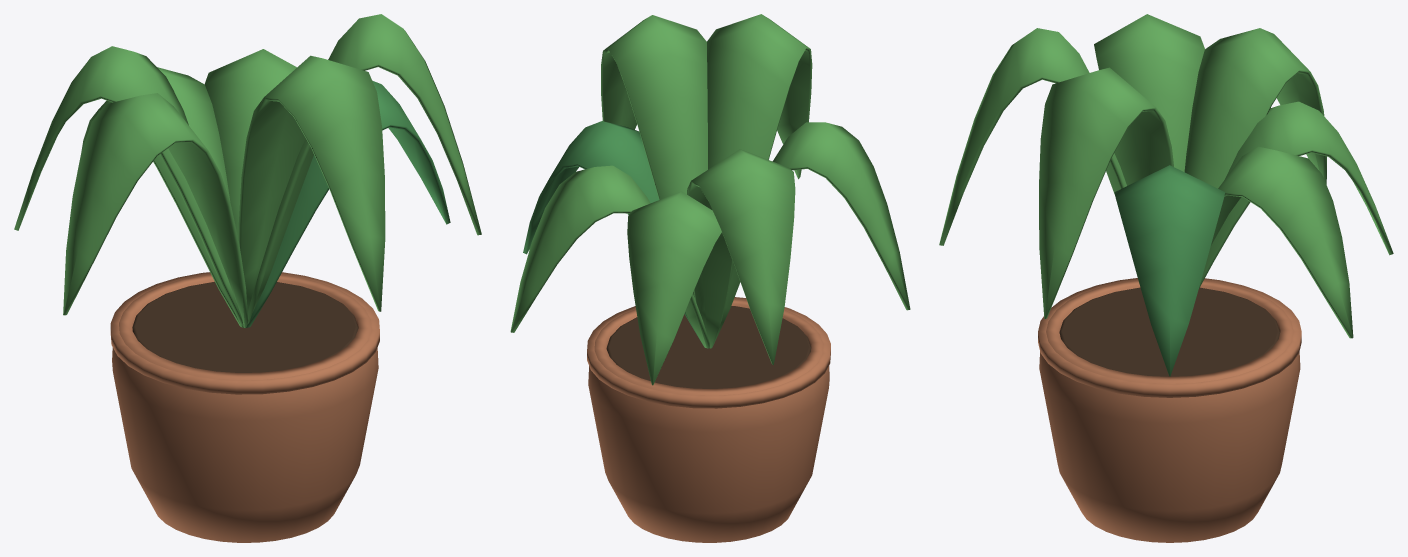
Rendered from HotelTogether-TablePlant.glb.
3 renders of one model, left to right at view 1: azimuth 30°, elevation 25°; view 2: azimuth 150°, elevation 25°; view 3: azimuth 270°, elevation 25°, orthographic. The views are drawn at different scales.
Visible parts, largest first — view 1: Pot_ContinuousShell.001, TablePlant_Leaf.002, TablePlant_Leaf.004, Pot_Soil.001, TablePlant_Leaf.005, TablePlant_Leaf.001, TablePlant_Leaf.003, Pot_Rim.001, TablePlant_Leaf, TablePlant_Leaf.006; view 2: Pot_ContinuousShell.001, TablePlant_Leaf.005, TablePlant_Leaf.006, TablePlant_Leaf.002, TablePlant_Leaf.001, Pot_Soil.001, TablePlant_Leaf.003, TablePlant_Leaf.004, TablePlant_Leaf, Pot_Rim.001; view 3: Pot_ContinuousShell.001, TablePlant_Leaf.005, Pot_Soil.001, TablePlant_Leaf, TablePlant_Leaf.001, TablePlant_Leaf.003, TablePlant_Leaf.004, TablePlant_Leaf.002, TablePlant_Leaf.006, Pot_Rim.001.
Boxes of the visible parts, bbox=[...] form: Pot_ContinuousShell.001: bbox=[112, 274, 378, 542]; TablePlant_Leaf.002: bbox=[238, 55, 385, 312]; TablePlant_Leaf.004: bbox=[63, 93, 248, 327]; Pot_Soil.001: bbox=[132, 281, 358, 372]; TablePlant_Leaf.005: bbox=[247, 14, 481, 323]; TablePlant_Leaf.001: bbox=[14, 46, 243, 327]; TablePlant_Leaf.003: bbox=[204, 49, 296, 239]; Pot_Rim.001: bbox=[110, 272, 379, 394]; TablePlant_Leaf: bbox=[246, 80, 450, 327]; TablePlant_Leaf.006: bbox=[81, 67, 243, 327]; Pot_ContinuousShell.001: bbox=[588, 299, 829, 542]; TablePlant_Leaf.005: bbox=[601, 15, 707, 199]; TablePlant_Leaf.006: bbox=[627, 191, 732, 385]; TablePlant_Leaf.002: bbox=[707, 14, 812, 179]; TablePlant_Leaf.001: bbox=[687, 149, 795, 364]; Pot_Soil.001: bbox=[606, 306, 811, 388]; TablePlant_Leaf.003: bbox=[510, 165, 709, 348]; TablePlant_Leaf.004: bbox=[730, 122, 910, 310]; TablePlant_Leaf: bbox=[523, 121, 703, 345]; Pot_Rim.001: bbox=[587, 297, 830, 408]; Pot_ContinuousShell.001: bbox=[1039, 280, 1300, 542]; TablePlant_Leaf.005: bbox=[1039, 67, 1173, 318]; Pot_Soil.001: bbox=[1059, 287, 1280, 376]; TablePlant_Leaf: bbox=[1114, 165, 1224, 376]; TablePlant_Leaf.001: bbox=[1184, 28, 1326, 188]; TablePlant_Leaf.003: bbox=[1211, 146, 1353, 338]; TablePlant_Leaf.004: bbox=[1094, 14, 1204, 171]; TablePlant_Leaf.002: bbox=[939, 28, 1126, 245]; TablePlant_Leaf.006: bbox=[1199, 101, 1393, 288]; Pot_Rim.001: bbox=[1038, 278, 1301, 397].
Size of the model in its own units: 0.4047 by 0.4681 by 0.4004.
